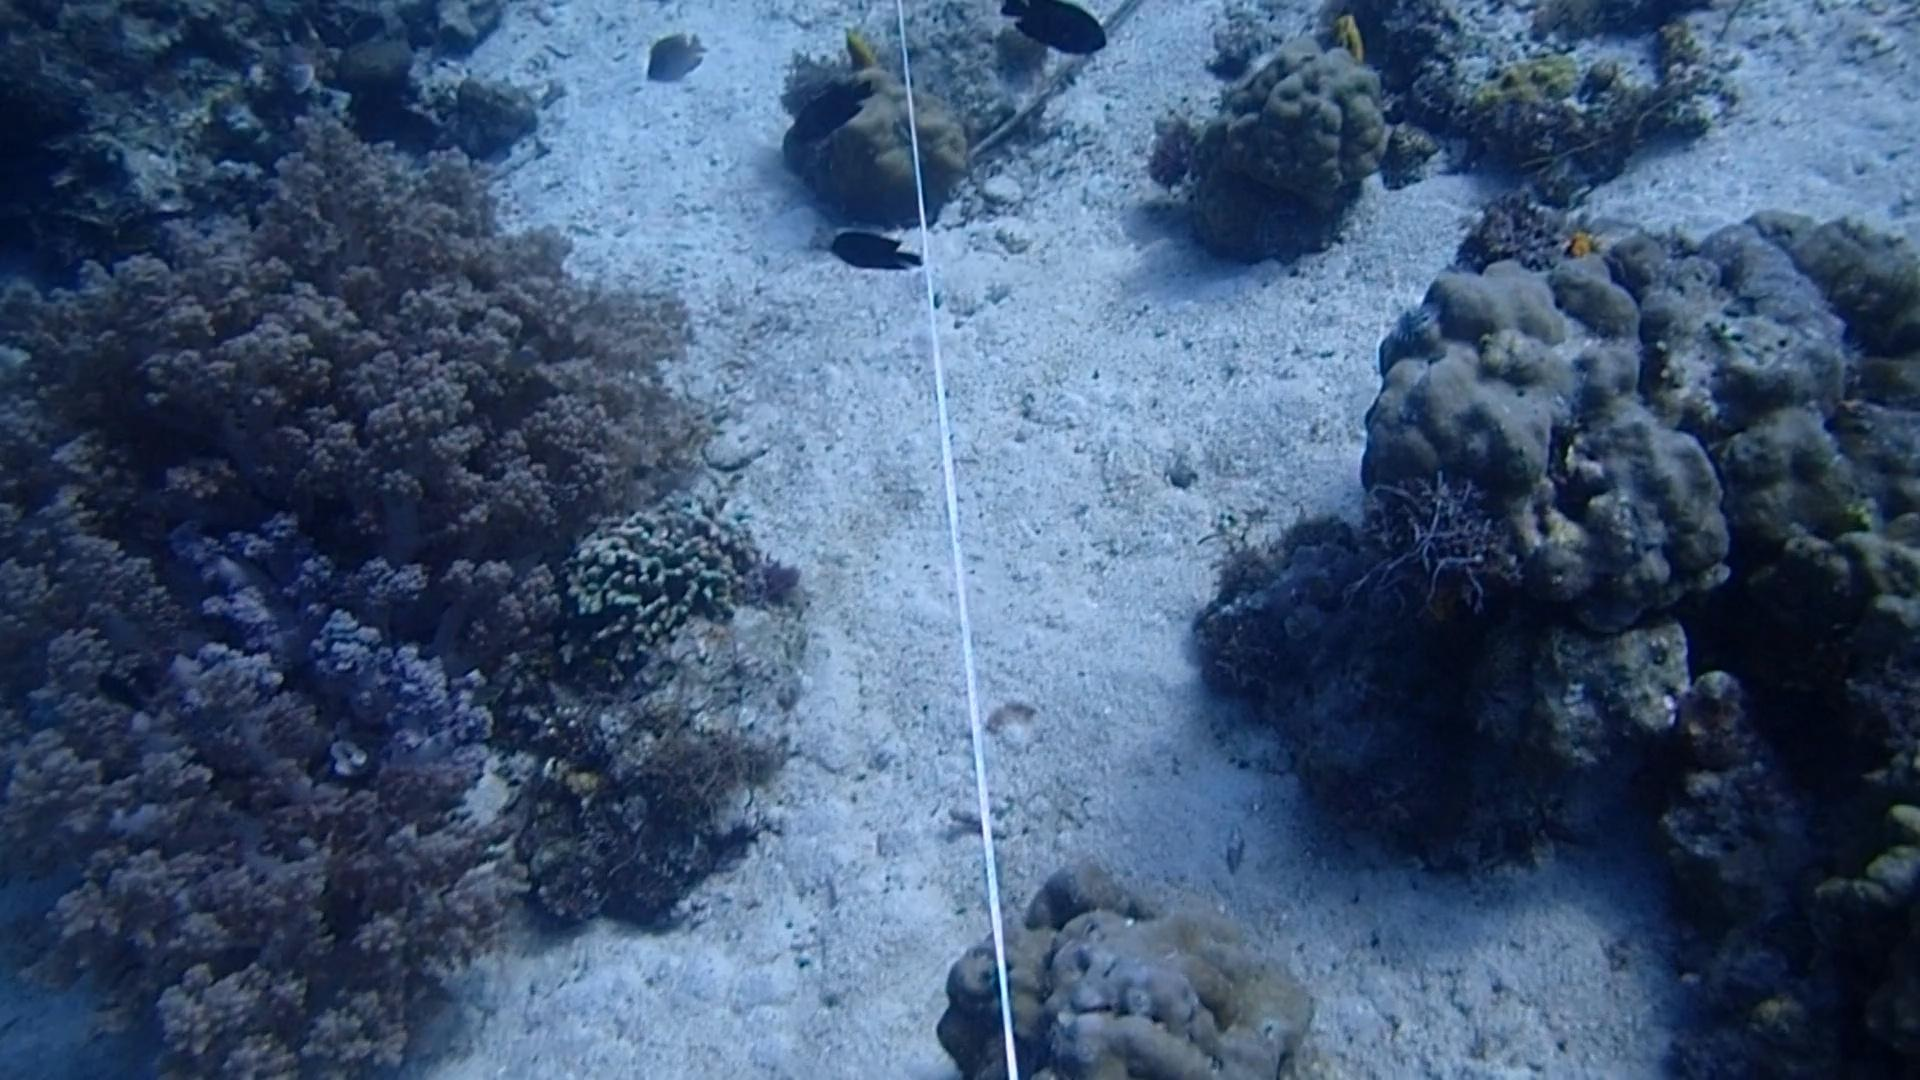Dark Fish: (773, 67, 890, 157), (994, 3, 1110, 55), (816, 228, 922, 276), (91, 654, 160, 719)
Light Fish: (638, 24, 724, 91)
